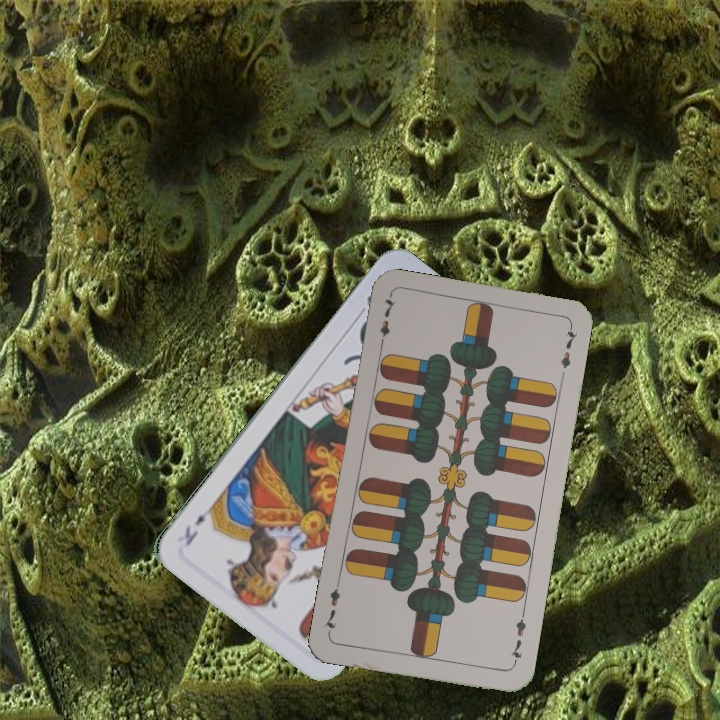E7: (375, 293, 398, 352), (507, 609, 529, 668)
